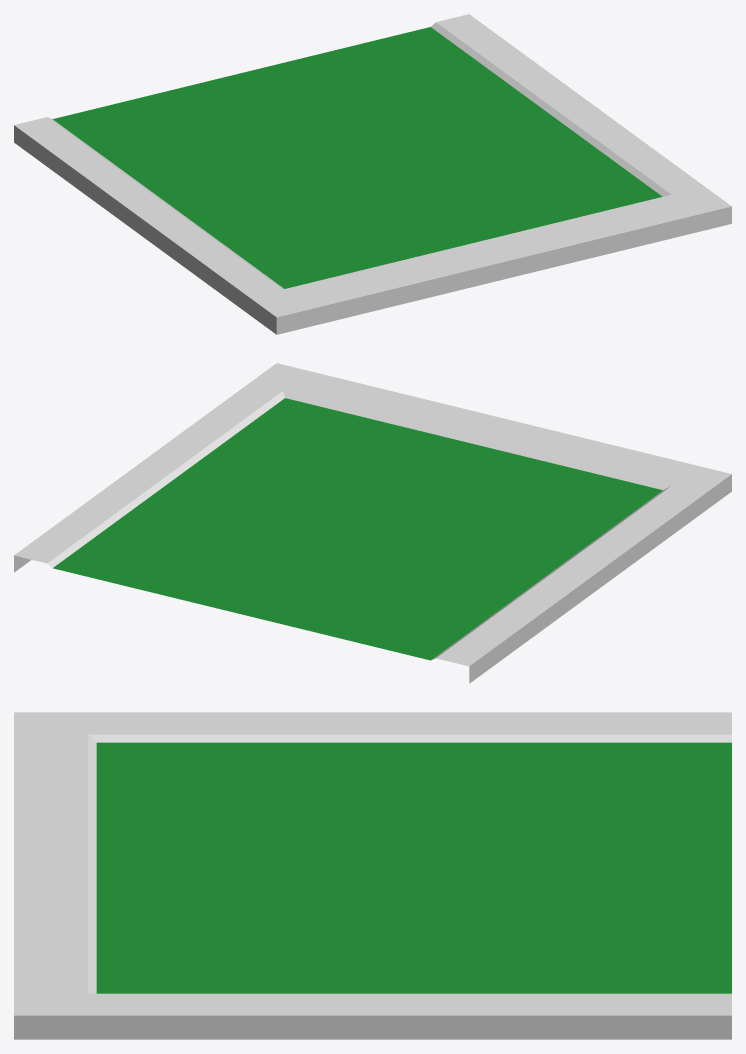
File: GrassBed_1_A_6.fbx
3 views of the same model, one above another, from view 1: azimuth 30°, elevation 25°; view 2: azimuth 150°, elevation 25°; view 3: azimuth 270°, elevation 25° (orthographic). The views are drawn at different scales.
Parts seen in each view (by area): view 1: GrassBed_1_A_6; view 2: GrassBed_1_A_6; view 3: GrassBed_1_A_6.
Boxes of the visible parts, <box> form: GrassBed_1_A_6: <box>14,14,731,334</box>; GrassBed_1_A_6: <box>14,363,731,683</box>; GrassBed_1_A_6: <box>14,712,731,1039</box>.
Bounding box in the file's own units: 200 × 7.32 × 200.
